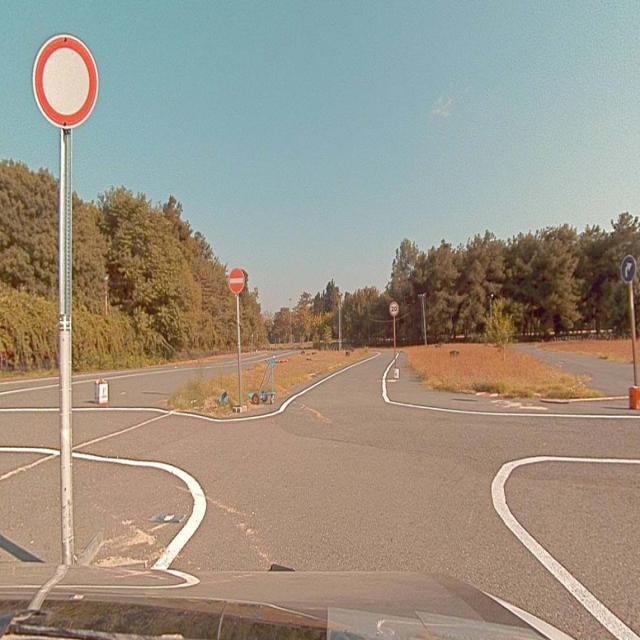20: (389, 303, 398, 316)
girisyok: (230, 268, 244, 292)
sag: (621, 254, 636, 282)
